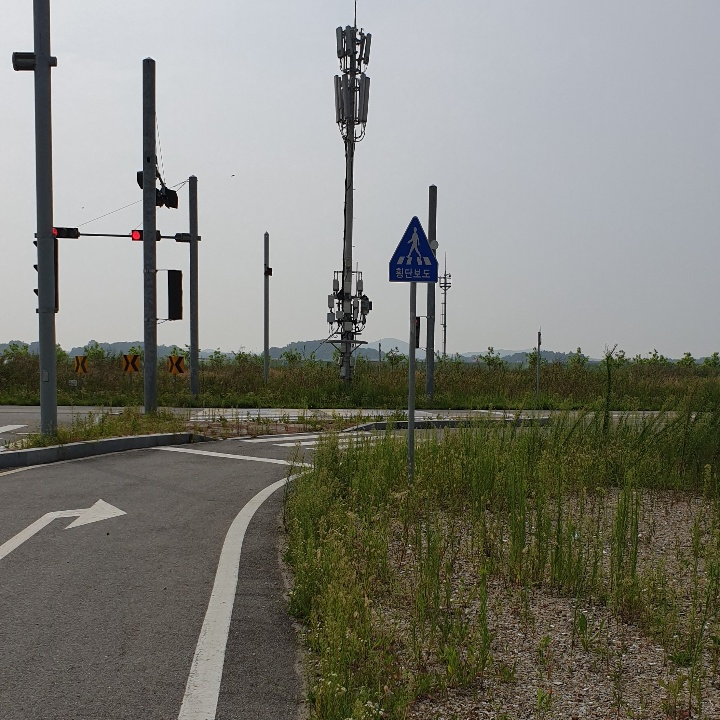cross: (401, 220, 430, 262)
